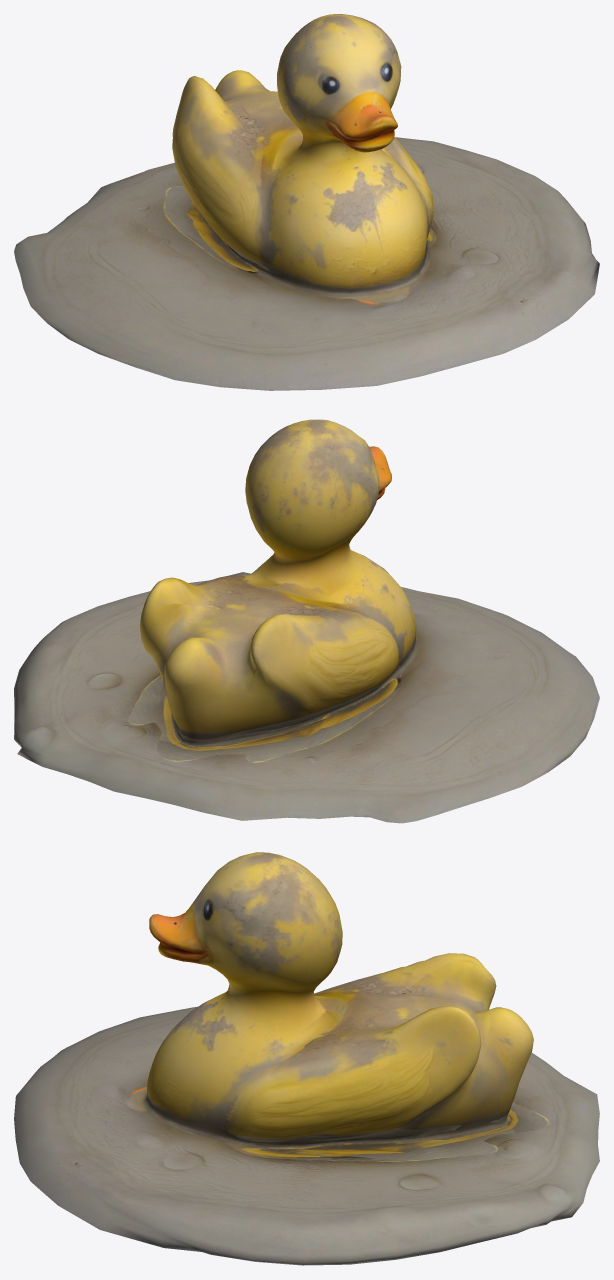
File: Dirty Old v6.glb
The picture shows the model from 3 angles, top to bottom: view 1: azimuth 30°, elevation 25°; view 2: azimuth 150°, elevation 25°; view 3: azimuth 270°, elevation 25°; orthographic projection. The views are drawn at different scales.
Parts seen in each view (by area): view 1: Mesh0; view 2: Mesh0; view 3: Mesh0.
Boxes of the visible parts, box(x1,y1,x2,y2) form: Mesh0: box(14, 14, 599, 390); Mesh0: box(14, 419, 599, 823); Mesh0: box(14, 852, 599, 1265).
Size of the model in its own units: 1.97 by 0.976 by 1.84.
1 material, 1 textured.
